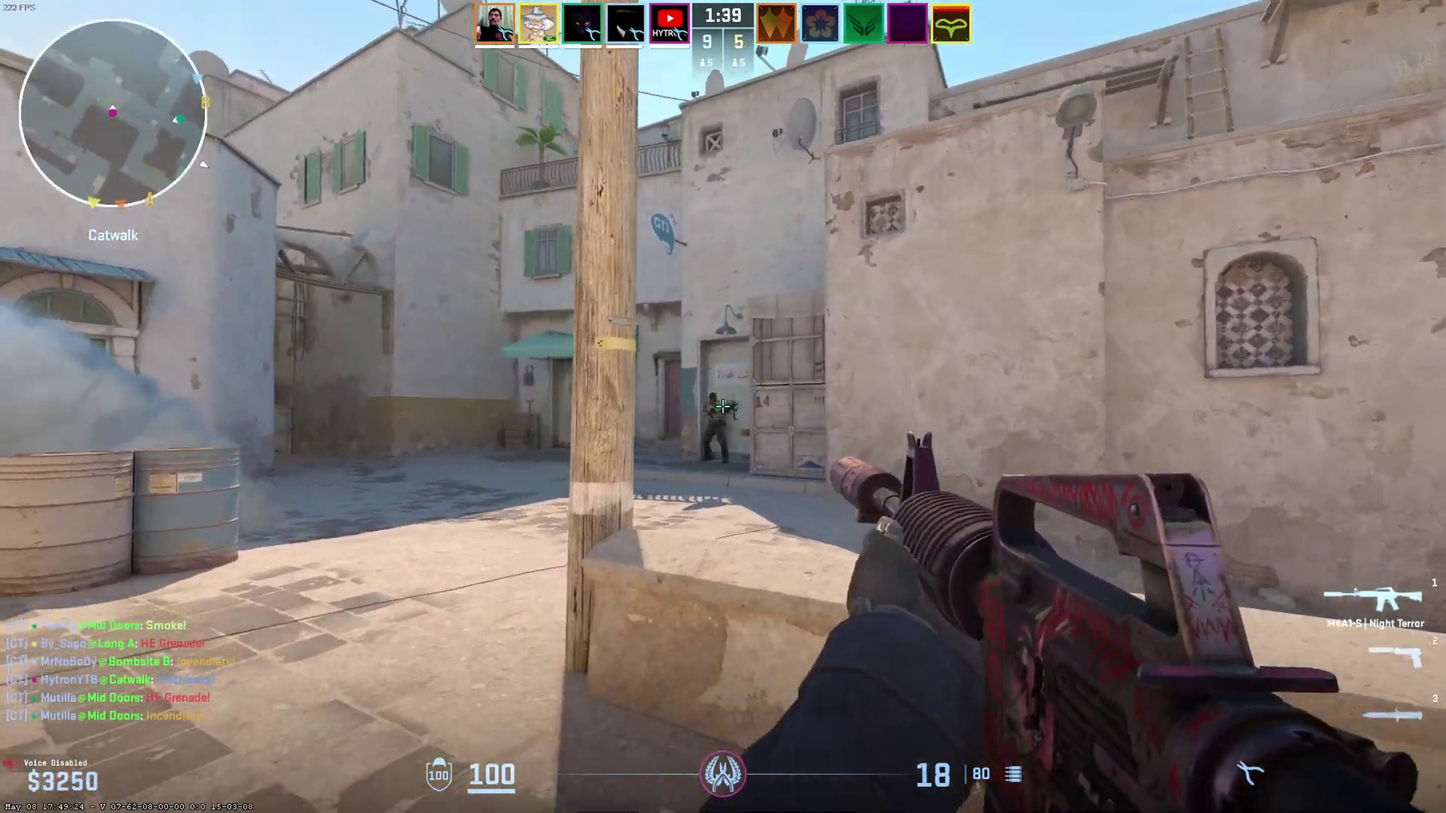Terrorist: (701, 392, 729, 464)
